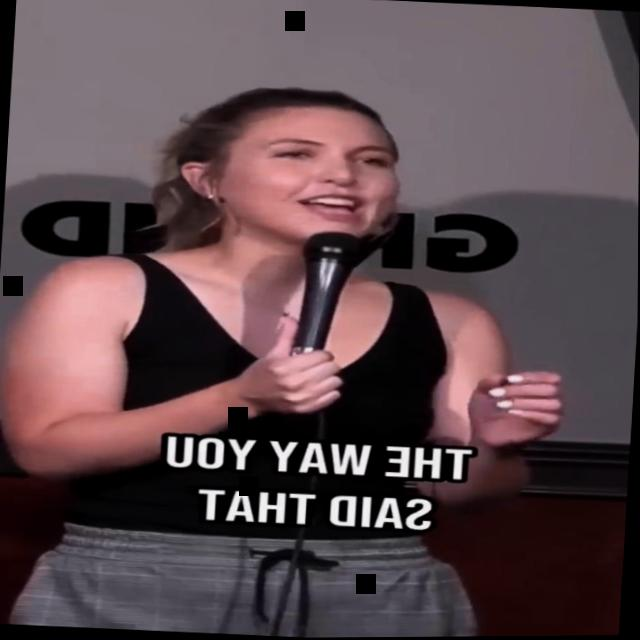NO-Mask: (189, 100, 408, 254)
